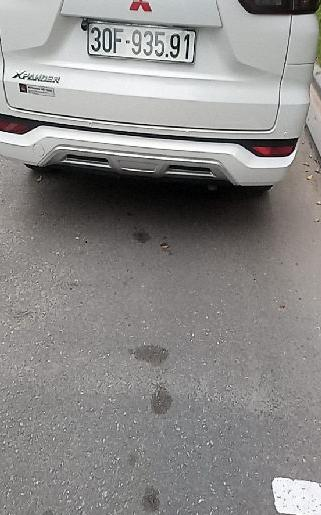Plate-iWeP: (84, 20, 199, 65)
